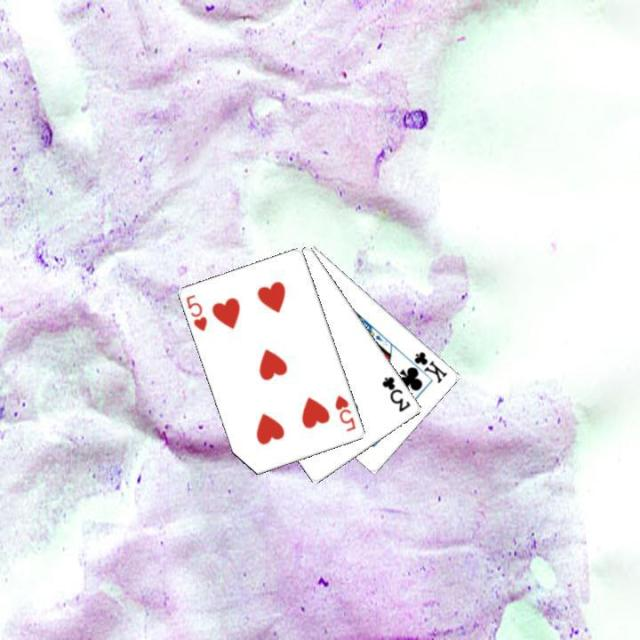3C: (378, 372, 412, 414)
5H: (182, 291, 209, 333), (332, 391, 358, 434)
KC: (403, 347, 449, 385)
